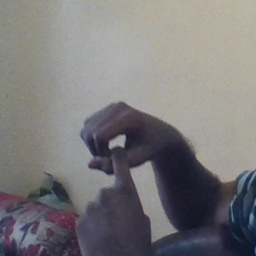Q: (74, 99, 174, 255)
